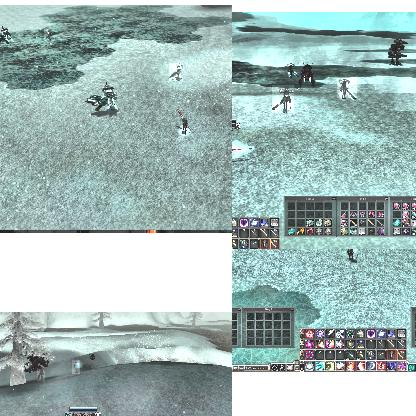caliana: (272, 85, 294, 113), (337, 78, 357, 98), (169, 63, 181, 81), (286, 63, 298, 77), (72, 360, 80, 374), (37, 369, 45, 381), (44, 29, 50, 41)
